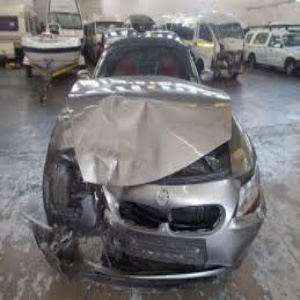bonnet: (62, 78, 235, 184)
bumper: (15, 200, 207, 281)
